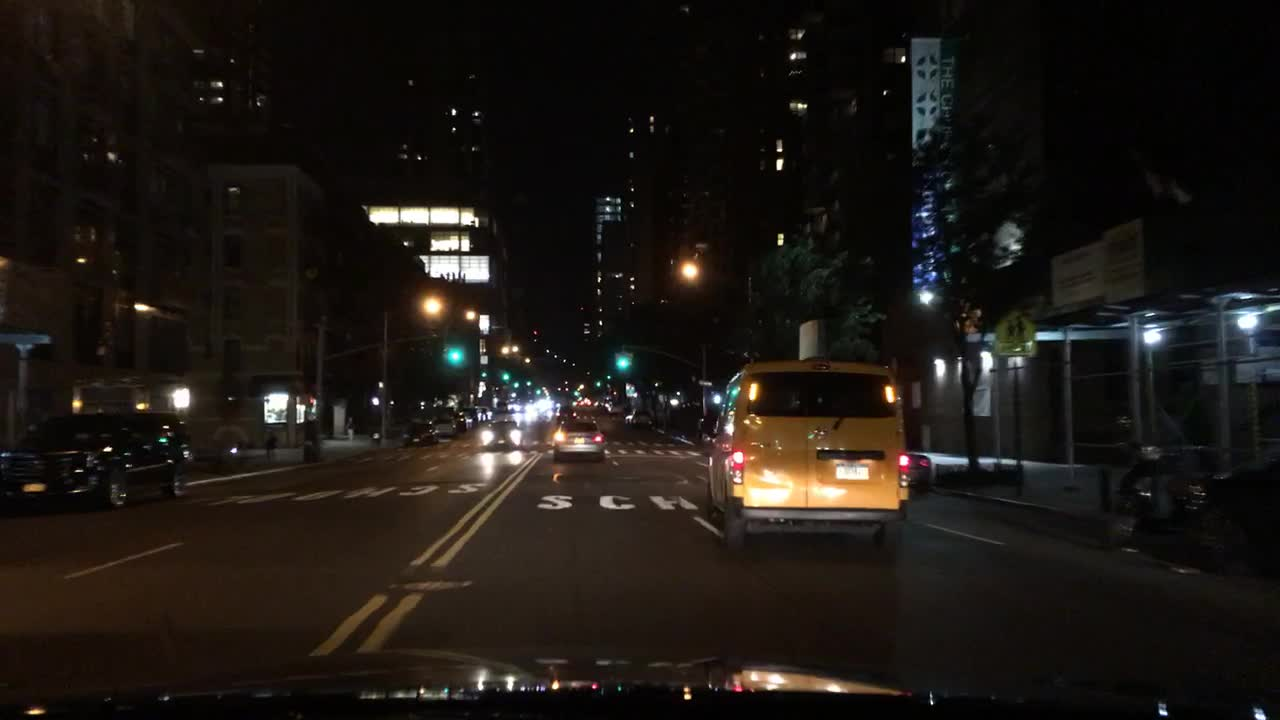car: (694, 315, 909, 551), (0, 406, 192, 512), (1165, 454, 1278, 571), (551, 417, 606, 461), (905, 449, 933, 496), (400, 420, 441, 447), (430, 413, 460, 440), (622, 409, 655, 427), (555, 401, 577, 424), (511, 396, 531, 416), (456, 409, 472, 430), (469, 405, 485, 424), (606, 400, 623, 414), (481, 404, 495, 421), (492, 399, 510, 411)
traffic light: (447, 344, 460, 364), (457, 343, 466, 365), (618, 351, 627, 370), (611, 351, 620, 370), (626, 351, 635, 369), (441, 343, 446, 366), (501, 370, 511, 381)
traffic sign: (993, 308, 1035, 359), (696, 376, 712, 389)
